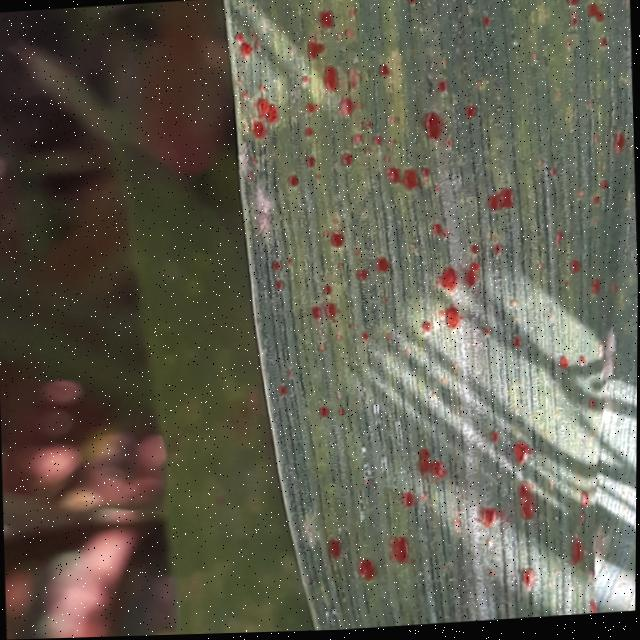orang_rust: (212, 0, 640, 635)
